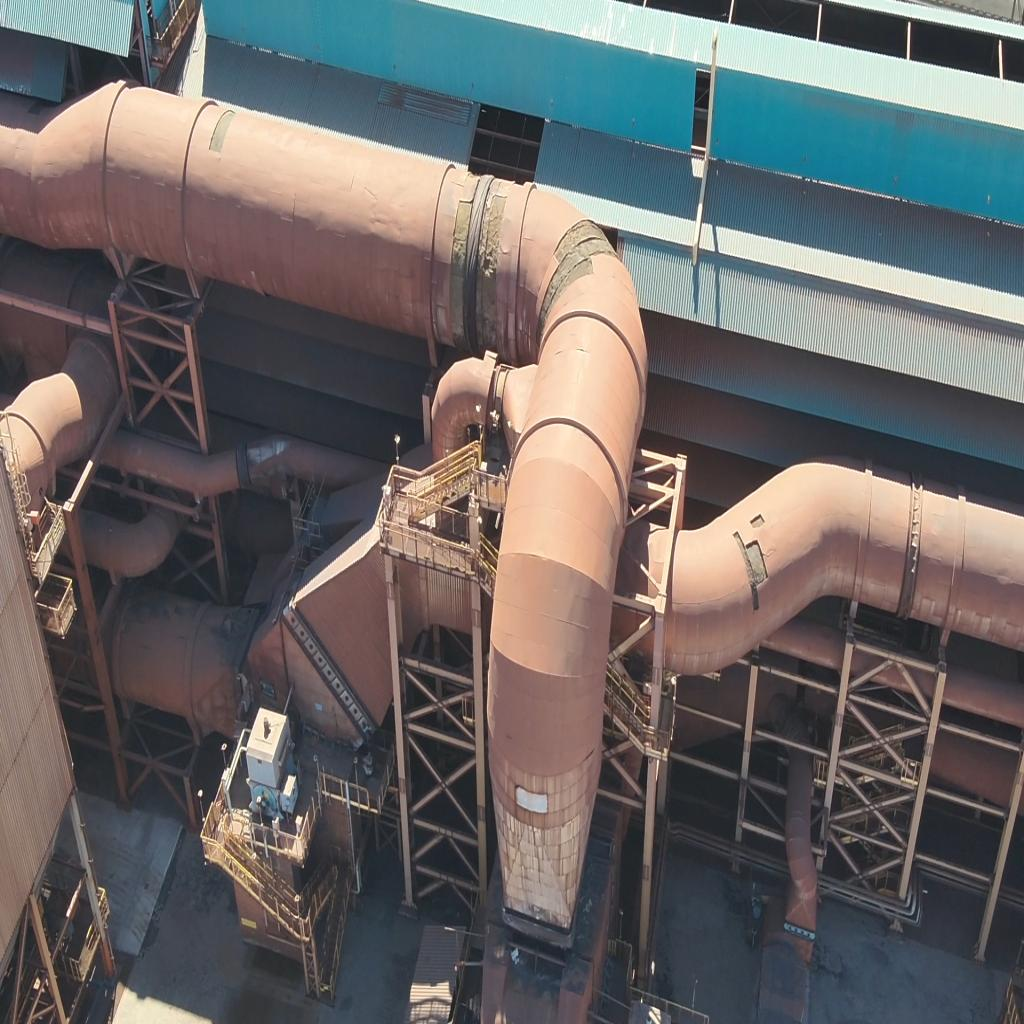Failures: (537, 218, 614, 327), (481, 194, 504, 342), (452, 175, 471, 348), (734, 534, 767, 611), (208, 107, 234, 156), (750, 512, 764, 527)
